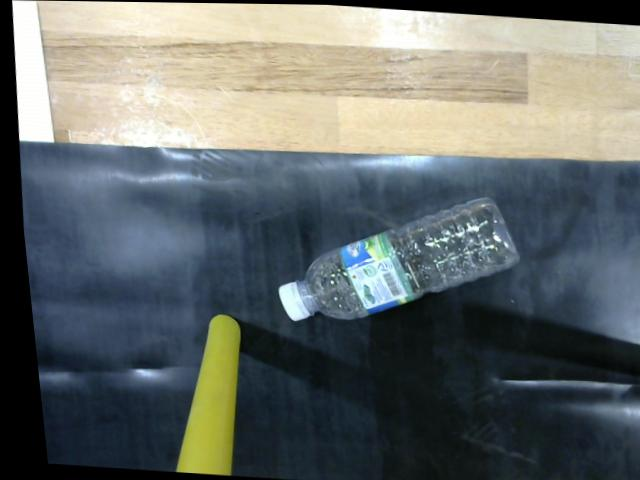bottle: (262, 193, 530, 326)
